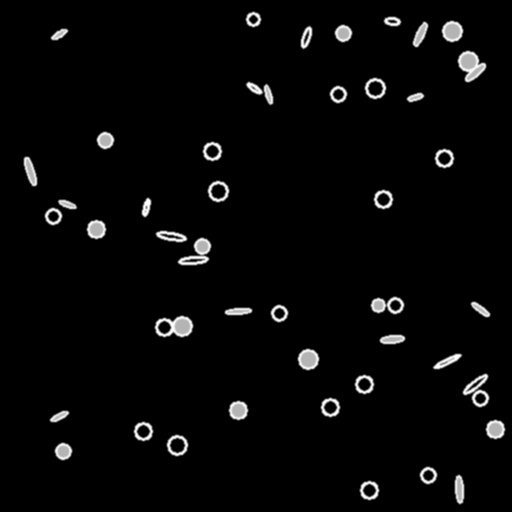pseudomonas: (462, 373, 488, 395), (433, 352, 461, 370), (464, 62, 486, 82), (23, 156, 37, 186), (412, 21, 428, 47), (470, 301, 490, 317), (178, 255, 208, 265), (157, 231, 185, 241), (49, 409, 69, 423), (300, 27, 312, 47), (246, 81, 262, 95), (381, 334, 403, 344), (455, 476, 463, 502), (51, 28, 67, 40), (263, 85, 273, 103), (59, 199, 75, 209), (142, 198, 150, 216), (226, 308, 250, 314), (407, 93, 423, 101), (384, 17, 400, 25)
synechocystis: (299, 350, 317, 368), (209, 182, 227, 200), (459, 52, 477, 70), (443, 22, 461, 40), (366, 79, 384, 97), (168, 436, 186, 454), (173, 317, 191, 335), (88, 221, 104, 237), (230, 402, 246, 418), (322, 399, 338, 415), (361, 482, 377, 498), (356, 376, 372, 392), (135, 423, 151, 439), (204, 143, 220, 159), (436, 150, 452, 166), (375, 191, 391, 207), (156, 319, 172, 335), (487, 421, 503, 437), (388, 298, 402, 312), (56, 444, 70, 458), (195, 239, 209, 253), (98, 133, 112, 147), (272, 306, 286, 320), (421, 468, 435, 482), (331, 87, 345, 101), (46, 209, 60, 223), (473, 391, 487, 405), (336, 26, 350, 40), (247, 13, 259, 25), (372, 299, 384, 311)
